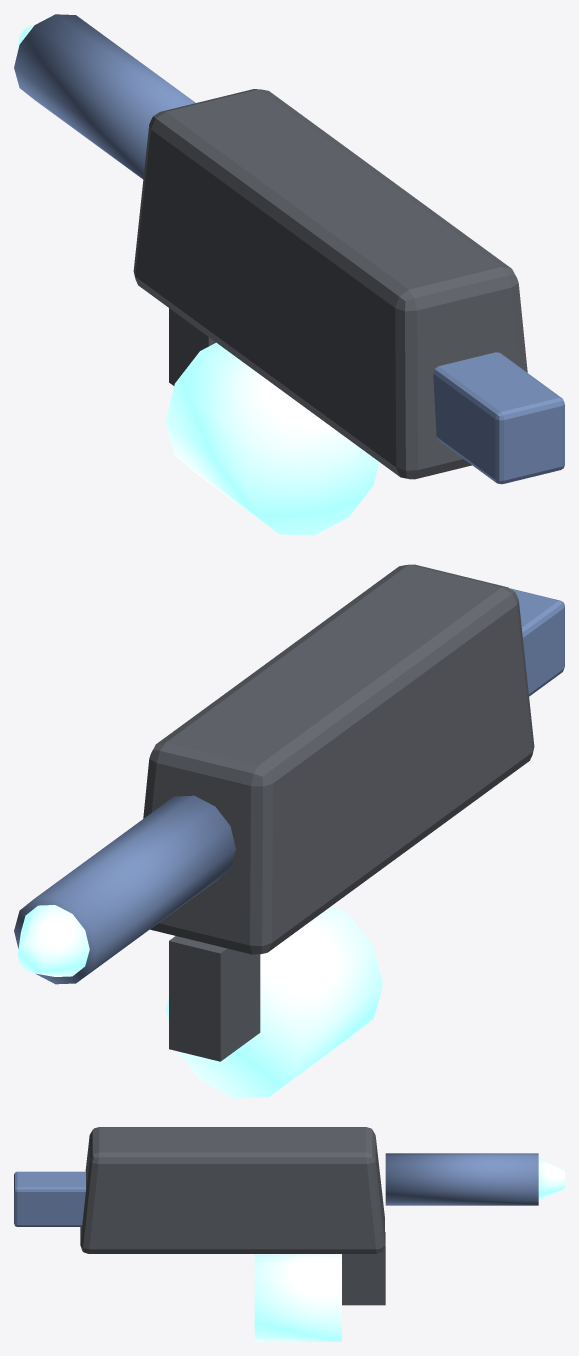
The model's file is weapon_smg_beam.glb.
3 renders of one model, top to bottom at view 1: azimuth 30°, elevation 25°; view 2: azimuth 150°, elevation 25°; view 3: azimuth 270°, elevation 25°, orthographic. The views are drawn at different scales.
Parts seen in each view (by area): view 1: body, cell, barrel, stock, foregrip; view 2: body, cell, barrel, foregrip, emitter, stock; view 3: body, barrel, cell, stock, foregrip, emitter.
Part boxes in pixels (x1,y1,x2,y2): body: (133, 89, 527, 479); cell: (165, 342, 379, 535); barrel: (14, 14, 195, 179); stock: (433, 352, 564, 484); foregrip: (169, 308, 215, 385); body: (143, 564, 534, 954); cell: (165, 905, 382, 1098); barrel: (14, 795, 235, 984); foregrip: (169, 936, 260, 1061); emitter: (17, 905, 89, 976); stock: (510, 588, 564, 696); body: (80, 1127, 384, 1253); barrel: (385, 1153, 538, 1205); cell: (254, 1254, 341, 1341); stock: (14, 1171, 85, 1226); foregrip: (342, 1232, 385, 1305); emitter: (538, 1158, 564, 1200).
Bounding box in the file's own units: 0.68 × 1.7 × 4.28.
